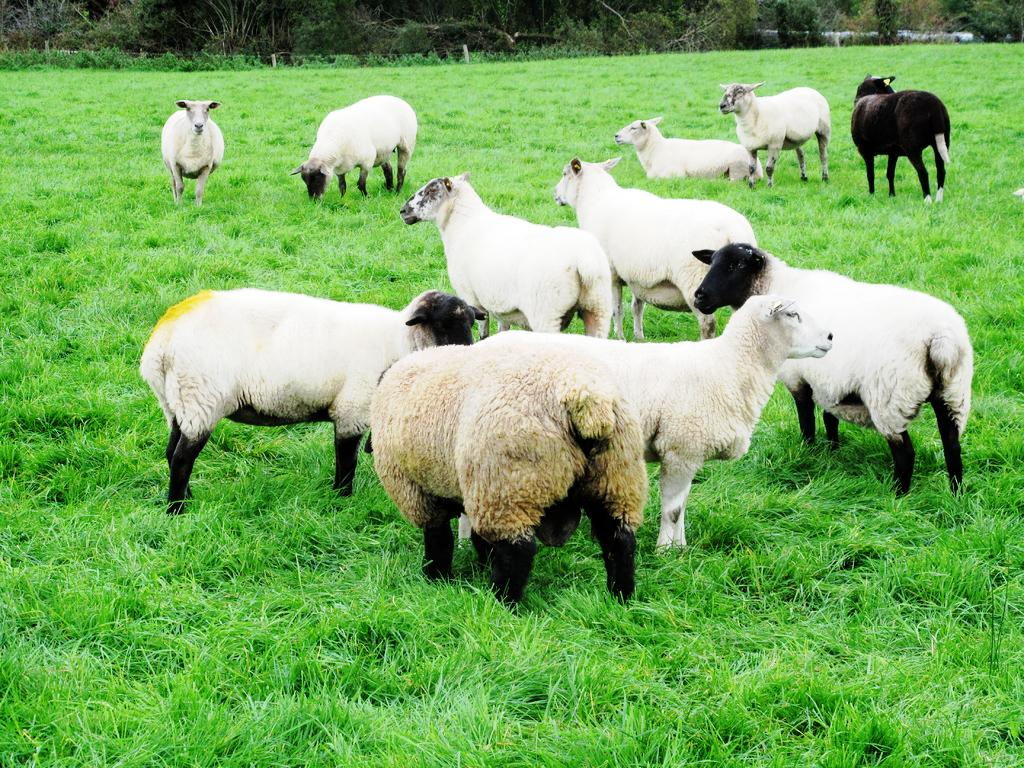Sheep: (138, 289, 488, 519), (532, 295, 835, 560), (686, 232, 976, 499), (366, 341, 647, 610), (553, 151, 762, 352), (399, 172, 613, 355), (847, 71, 962, 208), (292, 94, 420, 202), (716, 81, 834, 184), (612, 112, 766, 185), (152, 94, 238, 211)
